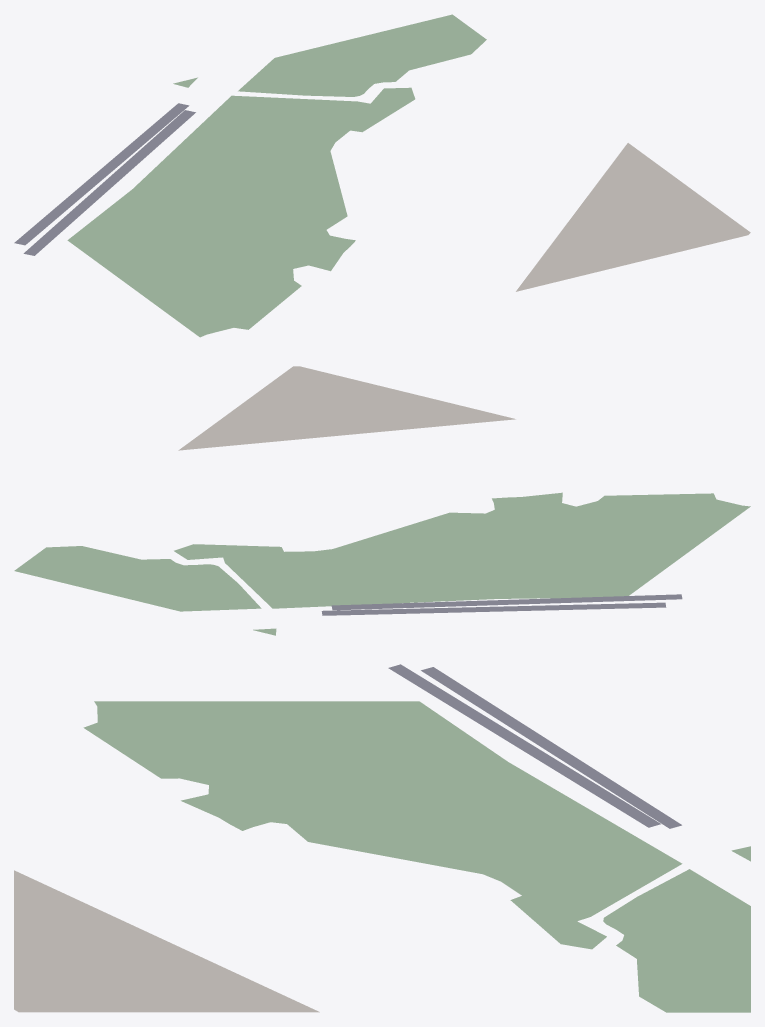
File: 102_87_mid.glb
The picture shows the model from 3 angles, top to bottom: view 1: azimuth 30°, elevation 25°; view 2: azimuth 150°, elevation 25°; view 3: azimuth 270°, elevation 25°; orthographic projection. The views are drawn at different scales.
Size of the model in its own units: 550 by 5.79 by 500.
